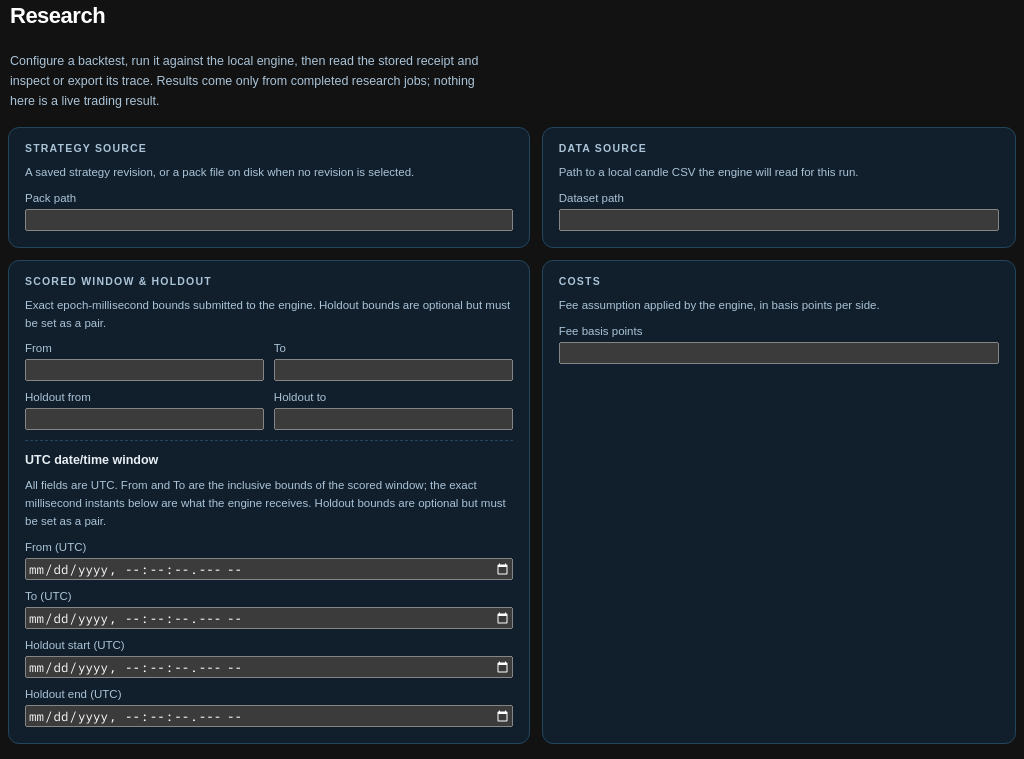
Test case: Research manual Load result honesty › names the actual failure, preserves cancellation and permits retry for {}
In the field labelled "Dataset path": (779, 220) [559,209,999,231], type "LOCAL-LOAD-FIXTURE.csv"
In the field labelled "Fee basis points": (779, 353) [559,342,999,364], type "40"
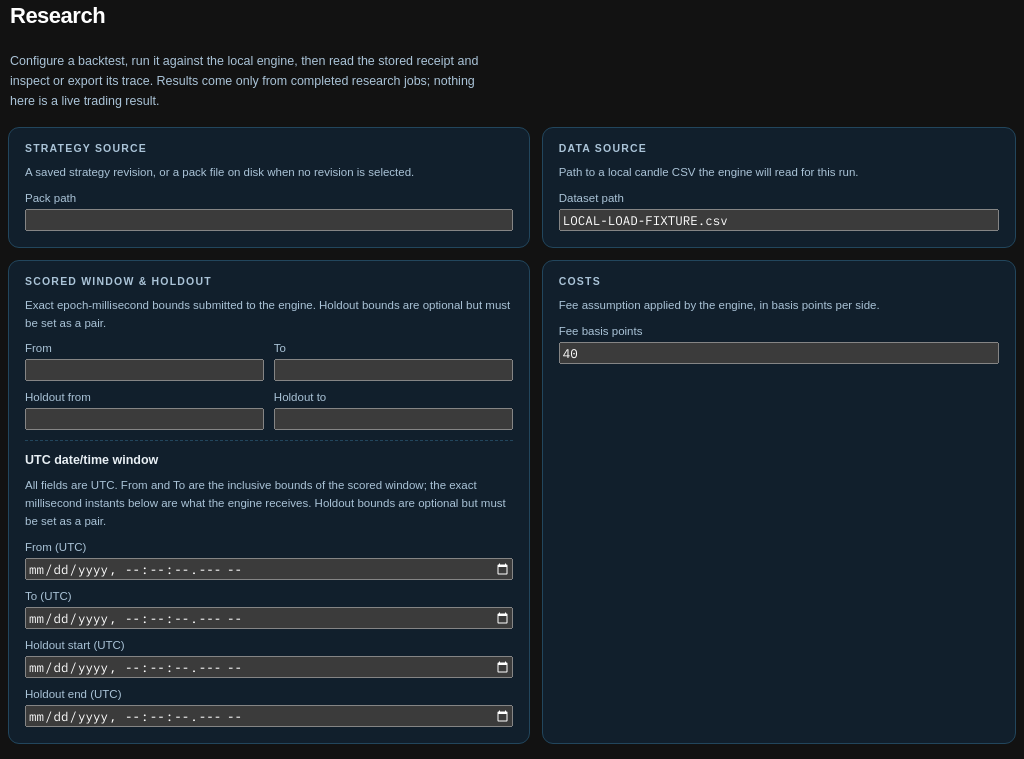
In the field labelled "From": (144, 370) [25,359,264,381], type "0"
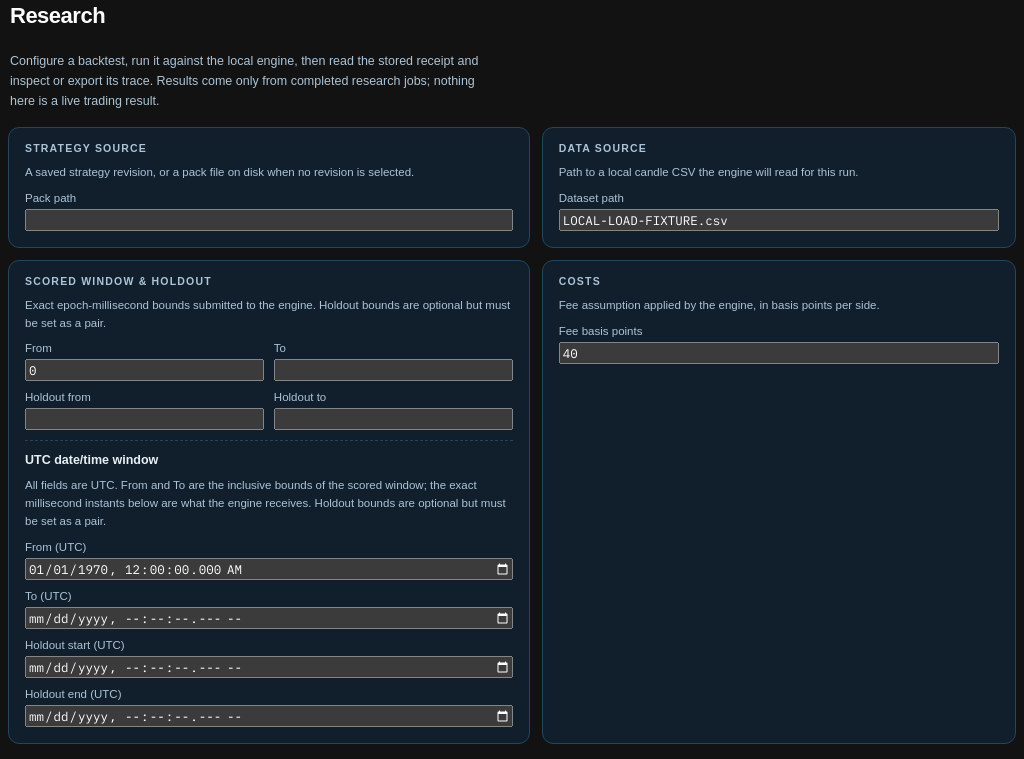
In the field labelled "To": (393, 370) [274,359,513,381], type "1000"
(page scrolled)
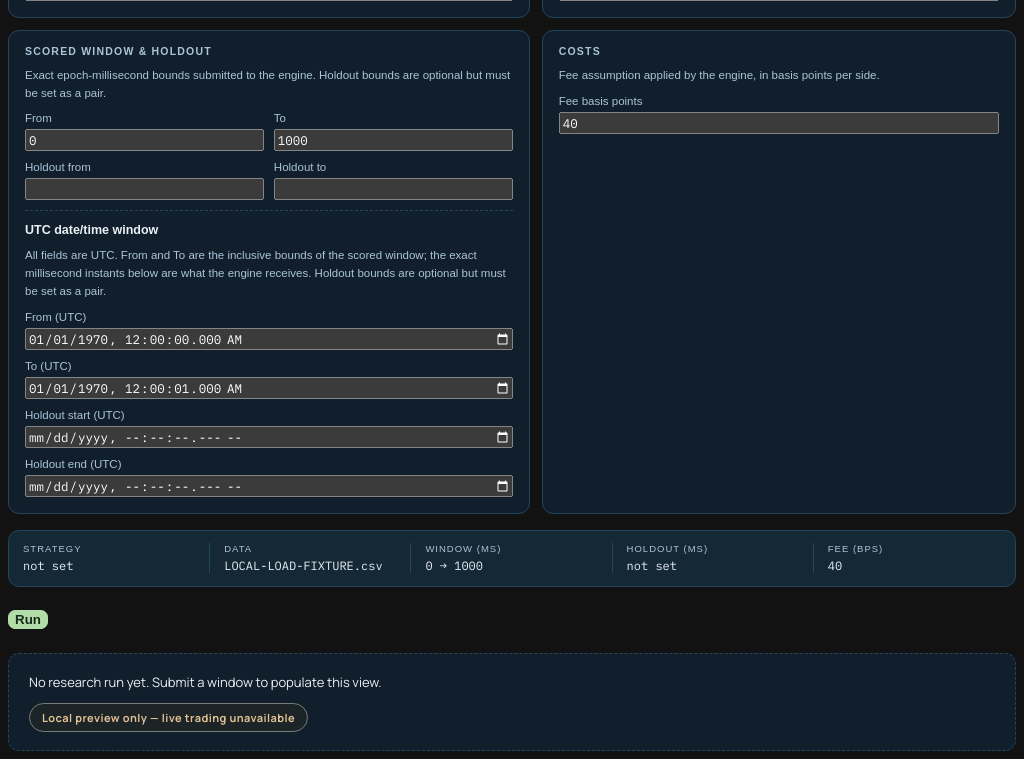
Click the button "Run": (28, 620) [8,610,48,629]
(page scrolled)
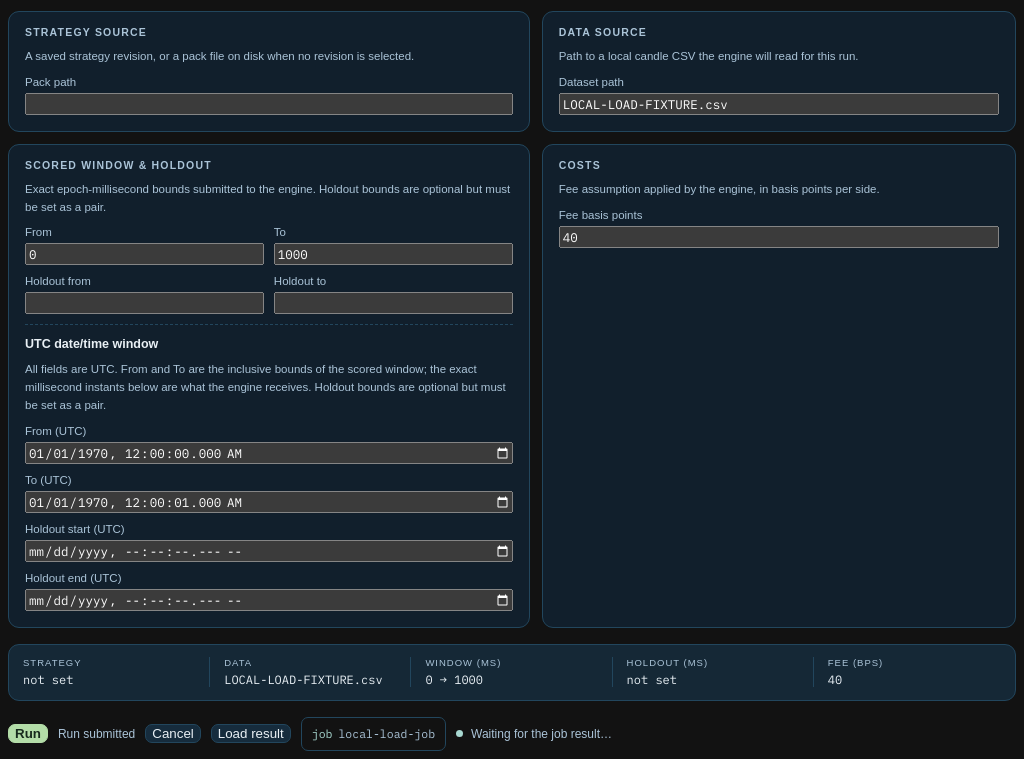
Expected: the element with test id "research-job-id" is shown, [301,717,446,751]
Click the button "Load result": (251, 734) [211,724,291,743]
(page scrolled)
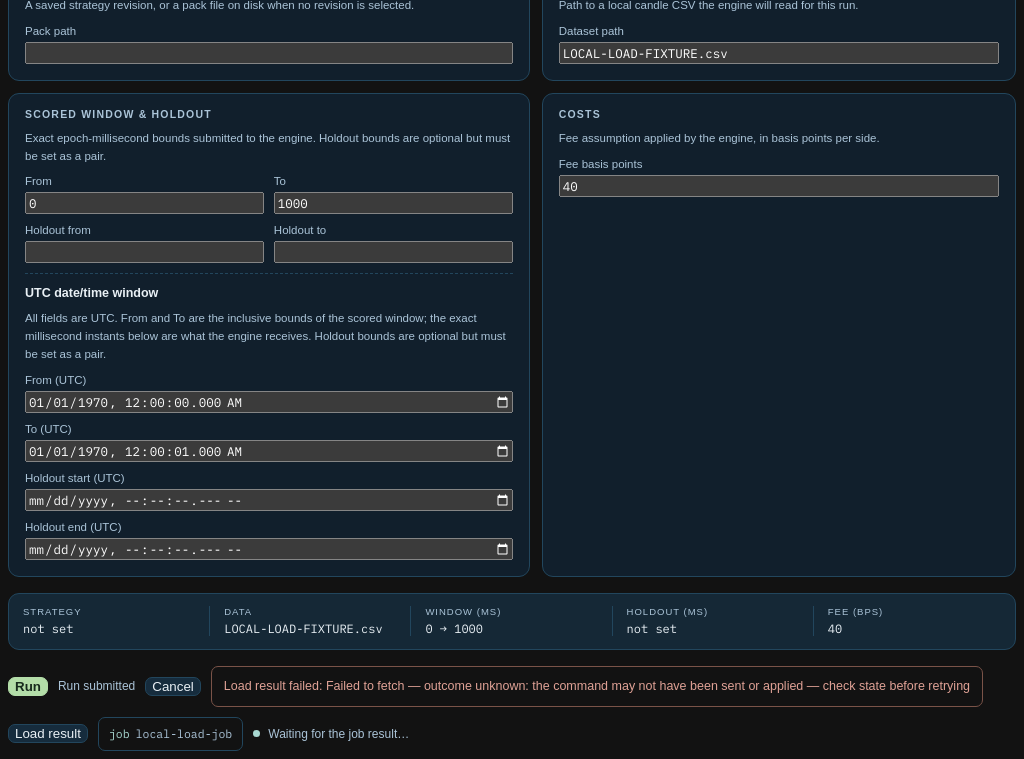
Expected: the element with test id "research-job-id" shows "local-load-job", [136,726,232,741]
Expected: the element with test id "research-job-status" shows "Waiting", [268,727,409,741]
Expected: the button with test id "research-cancel" is enabled, [145,677,201,696]
Click the button "Load result": (48, 734) [8,724,88,743]
(page scrolled)
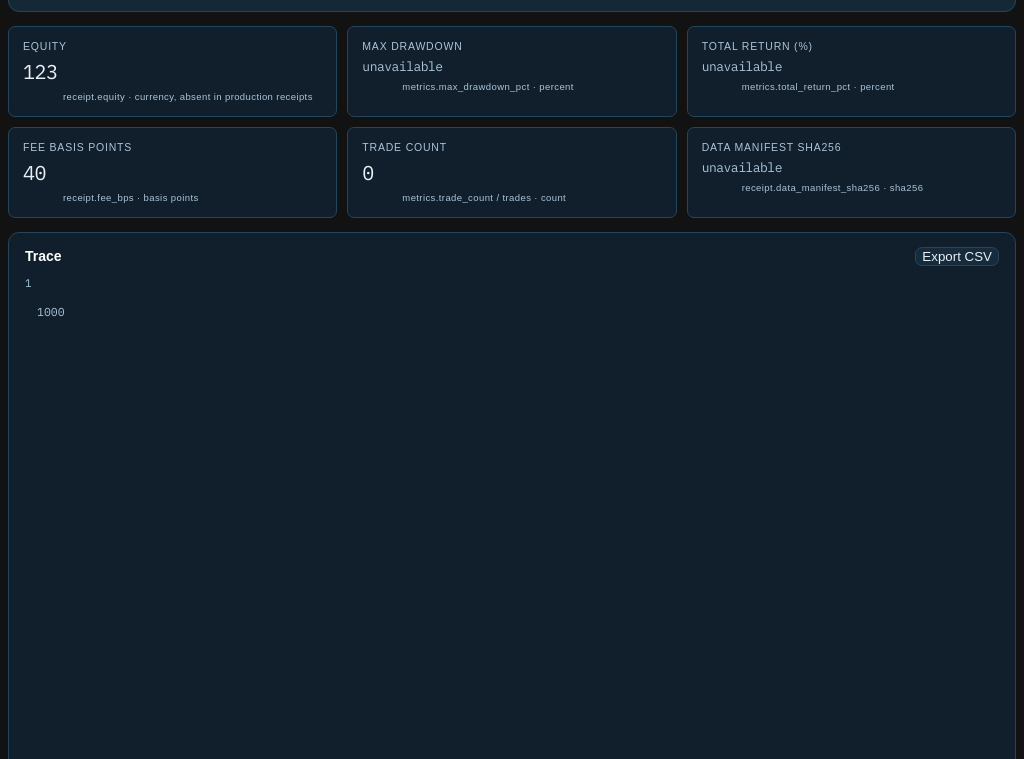
Expected: the element with test id "research-result" shows "123", [23,58,58,85]
Expected: the message with test id "research-load-result-error" is gone
